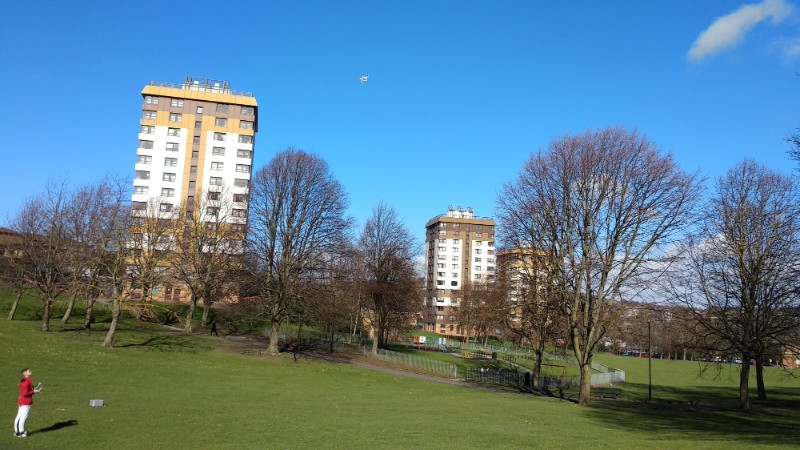drone: (358, 73, 371, 83)
